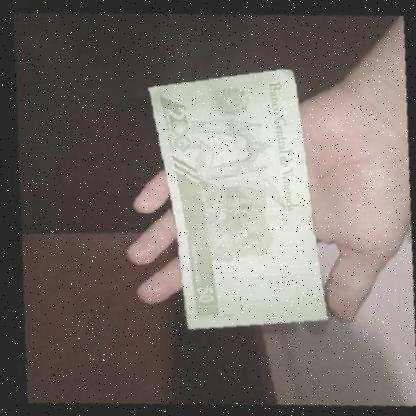fifty-back-vef: (129, 57, 343, 341)
